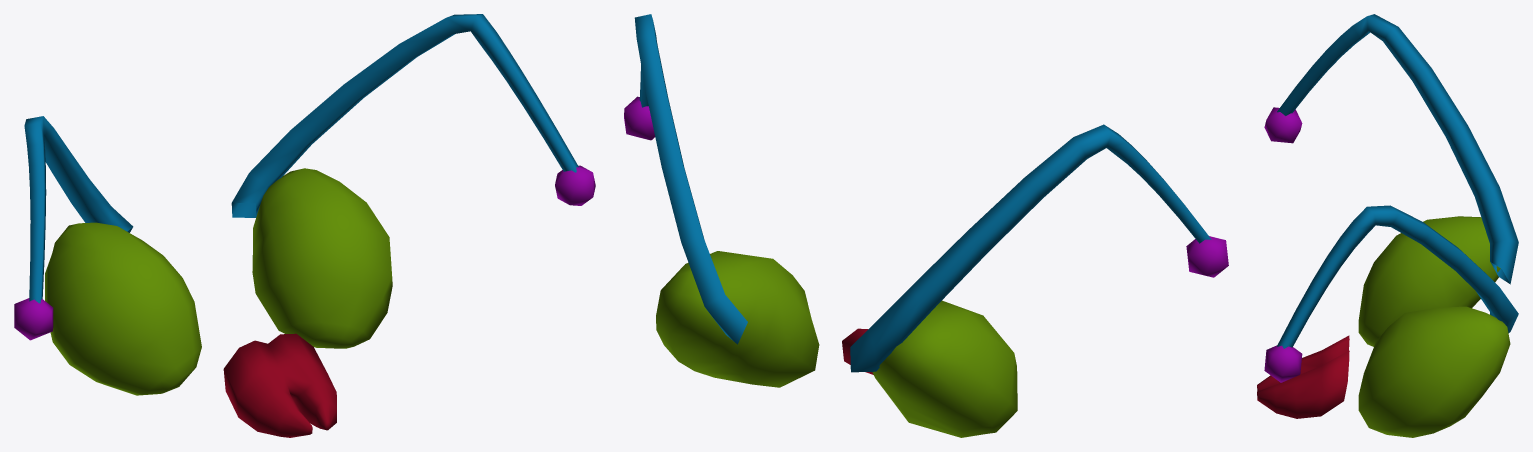
Rendered from accesoriios abeja.fbx.
3 renders of one model, left to right at view 1: azimuth 30°, elevation 25°; view 2: azimuth 150°, elevation 25°; view 3: azimuth 270°, elevation 25°, orthographic. The views are drawn at different scales.
Parts seen in each view (by area): view 1: BezierCurve.005; view 2: BezierCurve.005; view 3: BezierCurve.005.
Part boxes in pixels (x1,y1,x2,y2): BezierCurve.005: (14,14,595,437); BezierCurve.005: (624,14,1228,437); BezierCurve.005: (1257,14,1518,437).
Size of the model in its own units: 373 by 201 by 162.
